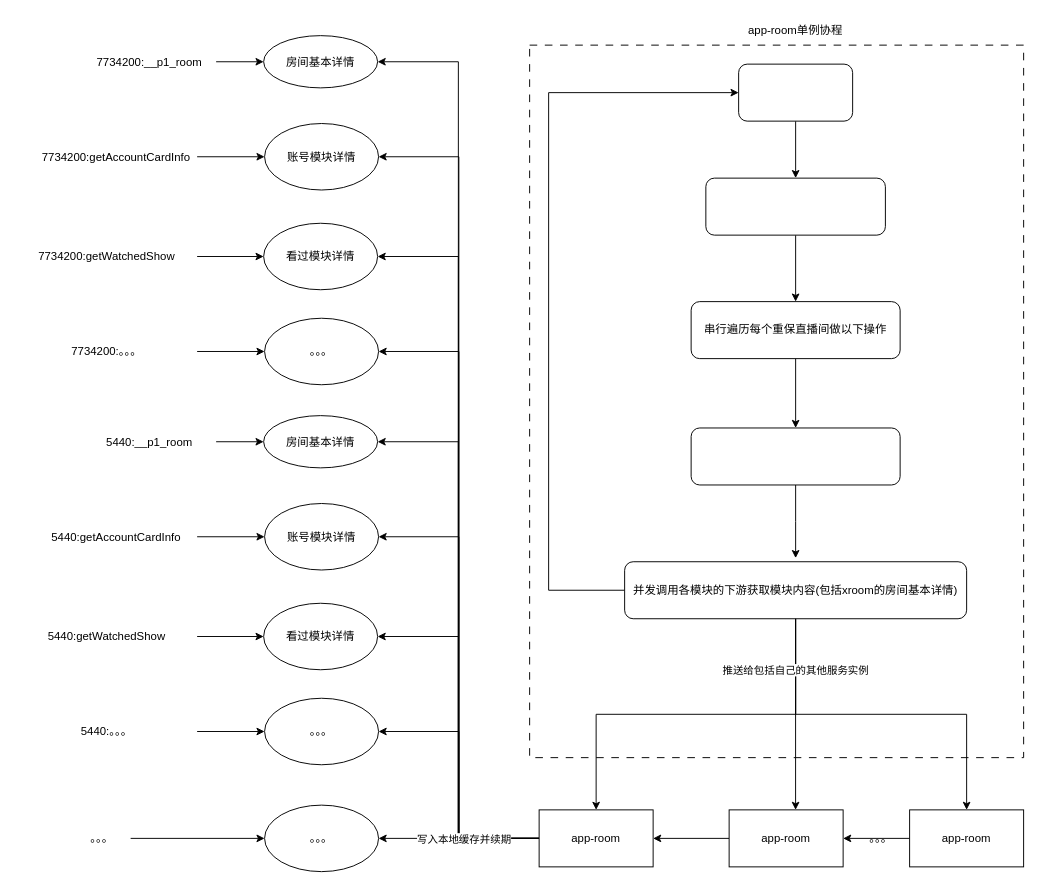
This 1040x888 diagram has some shape labels left out. Each missing label, with the centre of its shape:
等待1~2s: (795,92)
获取当前所有重保直播间: (795,206)
过滤出需要执行且可缓存的模块: (795,456)
